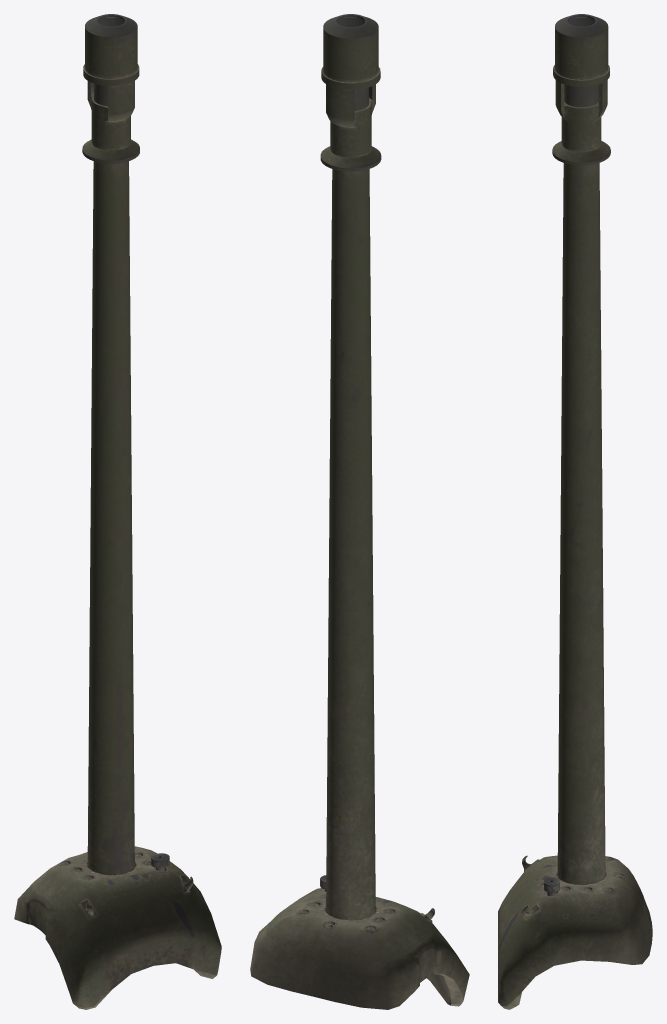
File: Gun_03.glb
3 renders of one model, left to right at view 1: azimuth 30°, elevation 25°; view 2: azimuth 150°, elevation 25°; view 3: azimuth 270°, elevation 25°, orthographic. The views are drawn at different scales.
Parts seen in each view (by area): view 1: set_0_group_0; view 2: set_0_group_0; view 3: set_0_group_0.
Part boxes in pixels (bbox=[...]): set_0_group_0: bbox=[14, 14, 221, 1009]; set_0_group_0: bbox=[250, 14, 469, 1009]; set_0_group_0: bbox=[498, 14, 652, 1009].
Size of the model in its own units: 0.9574 by 5.8 by 0.8499.
Materials: 1 (1 with a texture image).
